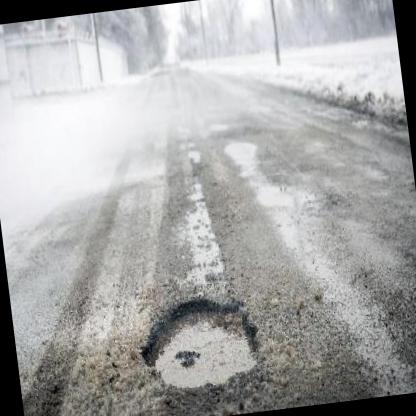pothole: (130, 283, 266, 396)
